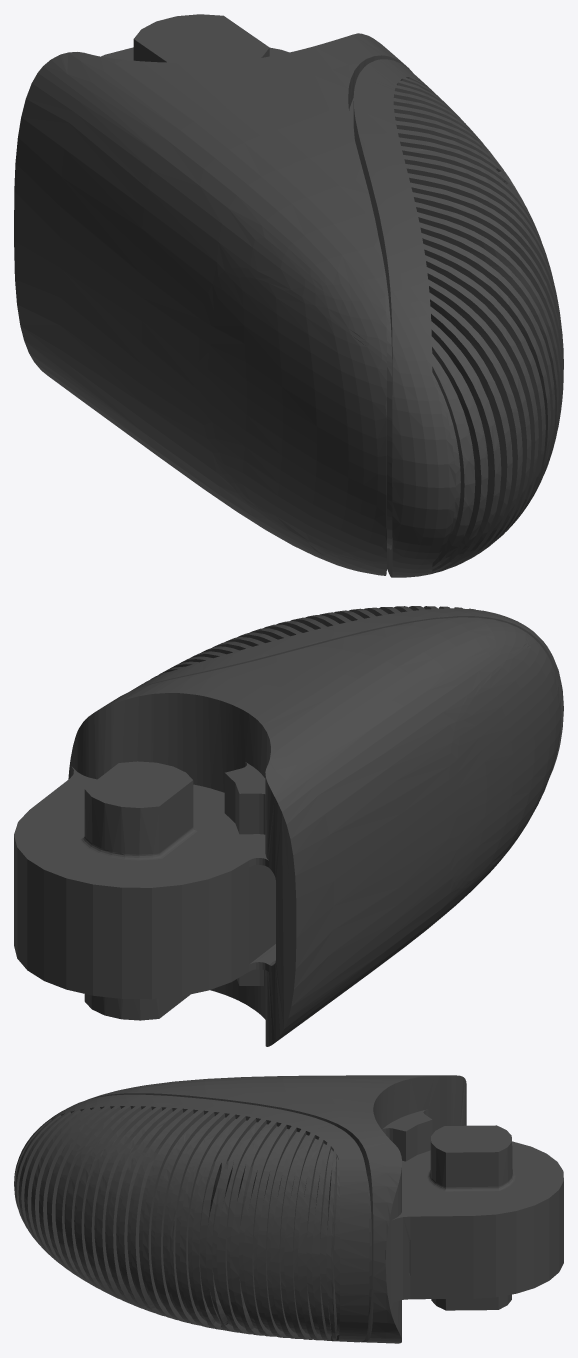
Rendered from rh_pinky_distal_vis.obj.
3 views of the same model, one above another, from view 1: azimuth 30°, elevation 25°; view 2: azimuth 150°, elevation 25°; view 3: azimuth 270°, elevation 25° (orthographic). The views are drawn at different scales.
Visible parts, largest first — view 1: rh_pinky_distal; view 2: rh_pinky_distal; view 3: rh_pinky_distal.
Part boxes in pixels (x1,y1,x2,y2): rh_pinky_distal: (14, 14, 563, 577); rh_pinky_distal: (14, 606, 563, 1046); rh_pinky_distal: (14, 1075, 563, 1343).
Bounding box in the file's own units: 0.0148 × 0.0145 × 0.0331.
1 material, 1 textured.
